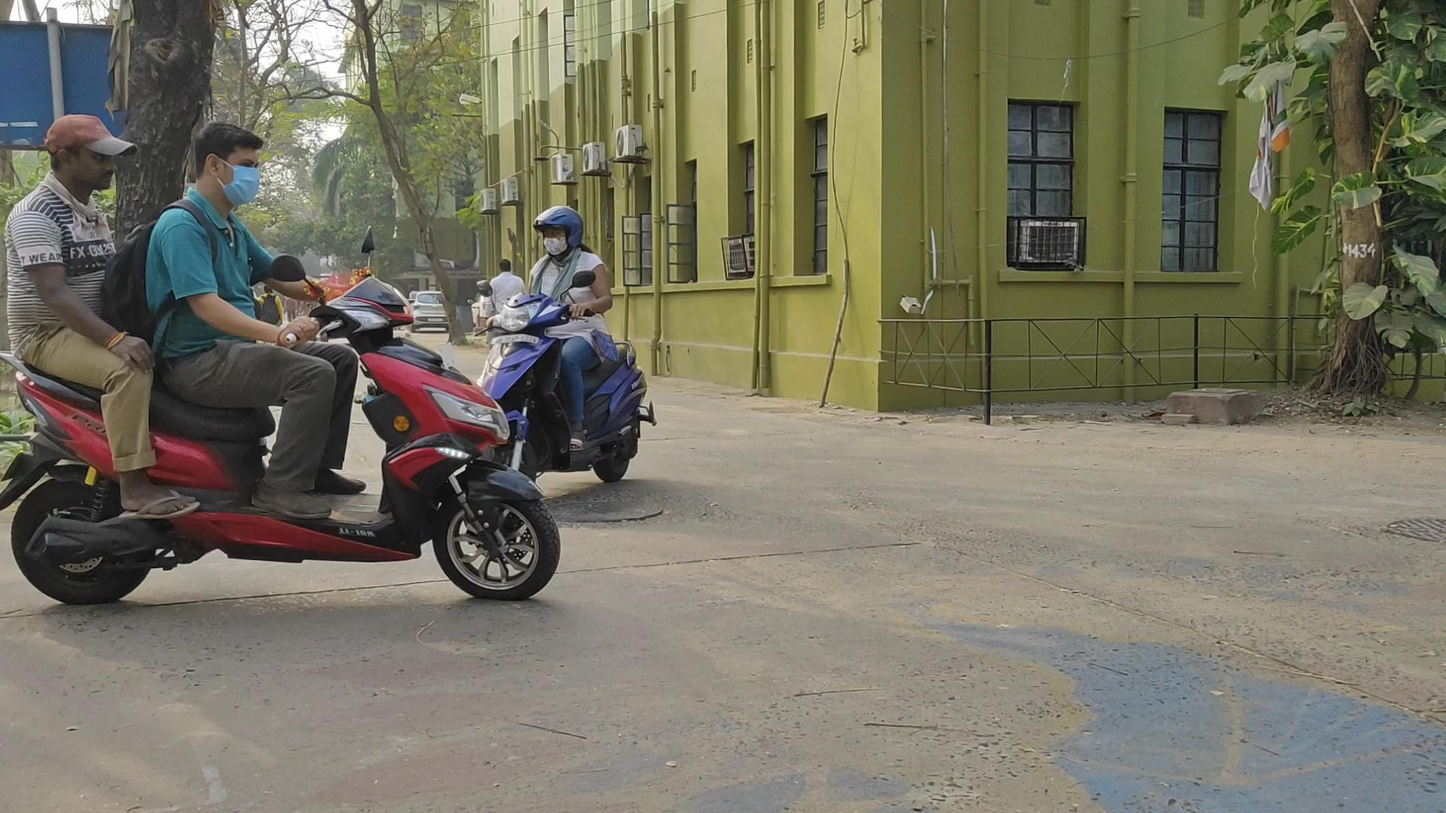bike: (5, 114, 559, 607), (465, 204, 654, 483)
car: (404, 291, 451, 333)
